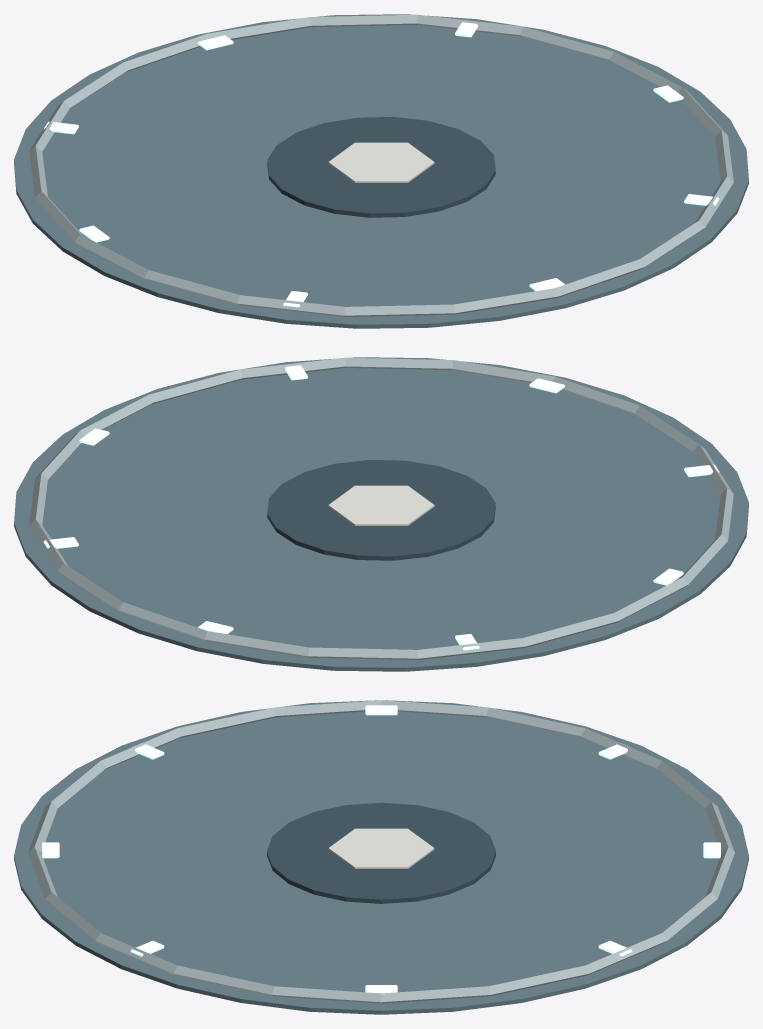
File: station.glb
3 views of the same model, one above another, from view 1: azimuth 30°, elevation 25°; view 2: azimuth 150°, elevation 25°; view 3: azimuth 270°, elevation 25° (orthographic).
Visible parts, largest first — view 1: floor, perimeter, capture_ring, center_mark, asset_station__FP_Signal; view 2: floor, perimeter, capture_ring, center_mark, asset_station__FP_Signal; view 3: floor, perimeter, capture_ring, center_mark, asset_station__FP_Signal.
Part boxes in pixels (x1,y1,x2,y2): floor: (14,14,748,328); perimeter: (29,14,733,316); capture_ring: (267,117,495,217); center_mark: (328,142,434,182); asset_station__FP_Signal: (43,22,719,307); floor: (14,357,748,671); perimeter: (29,357,733,659); capture_ring: (267,460,495,560); center_mark: (328,485,434,525); asset_station__FP_Signal: (43,365,719,650); floor: (14,700,748,1014); perimeter: (28,700,734,1003); capture_ring: (267,802,495,903); center_mark: (328,828,434,868); asset_station__FP_Signal: (42,705,720,993).
Size of the model in its own units: 5 by 0.095 by 5.
